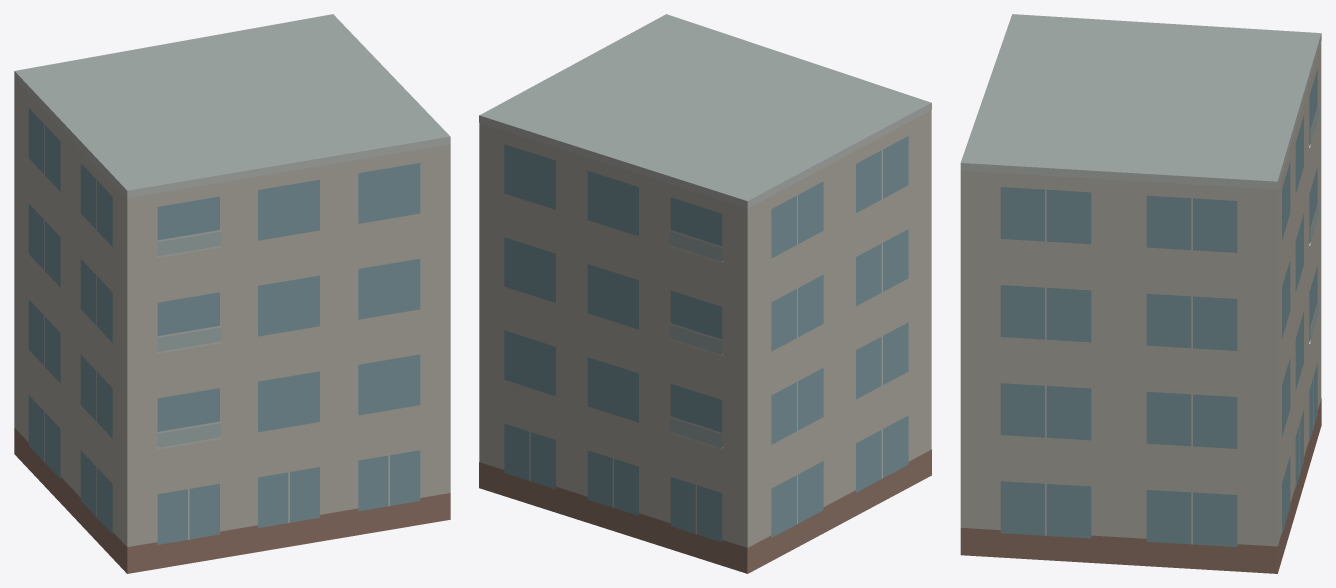
Rendered from survey-upis-32656278.glb.
The picture shows the model from 3 angles, left to right: view 1: azimuth 30°, elevation 25°; view 2: azimuth 150°, elevation 25°; view 3: azimuth 270°, elevation 25°; orthographic projection. The views are drawn at different scales.
Parts seen in each view (by area): view 1: survey-upis-32656278.tmp; view 2: survey-upis-32656278.tmp; view 3: survey-upis-32656278.tmp.
Part boxes in pixels (x1,y1,x2,y2): survey-upis-32656278.tmp: [14, 14, 450, 573]; survey-upis-32656278.tmp: [479, 14, 931, 573]; survey-upis-32656278.tmp: [960, 14, 1321, 573].
Size of the model in its own units: 11.19 by 12.2 by 10.18.
